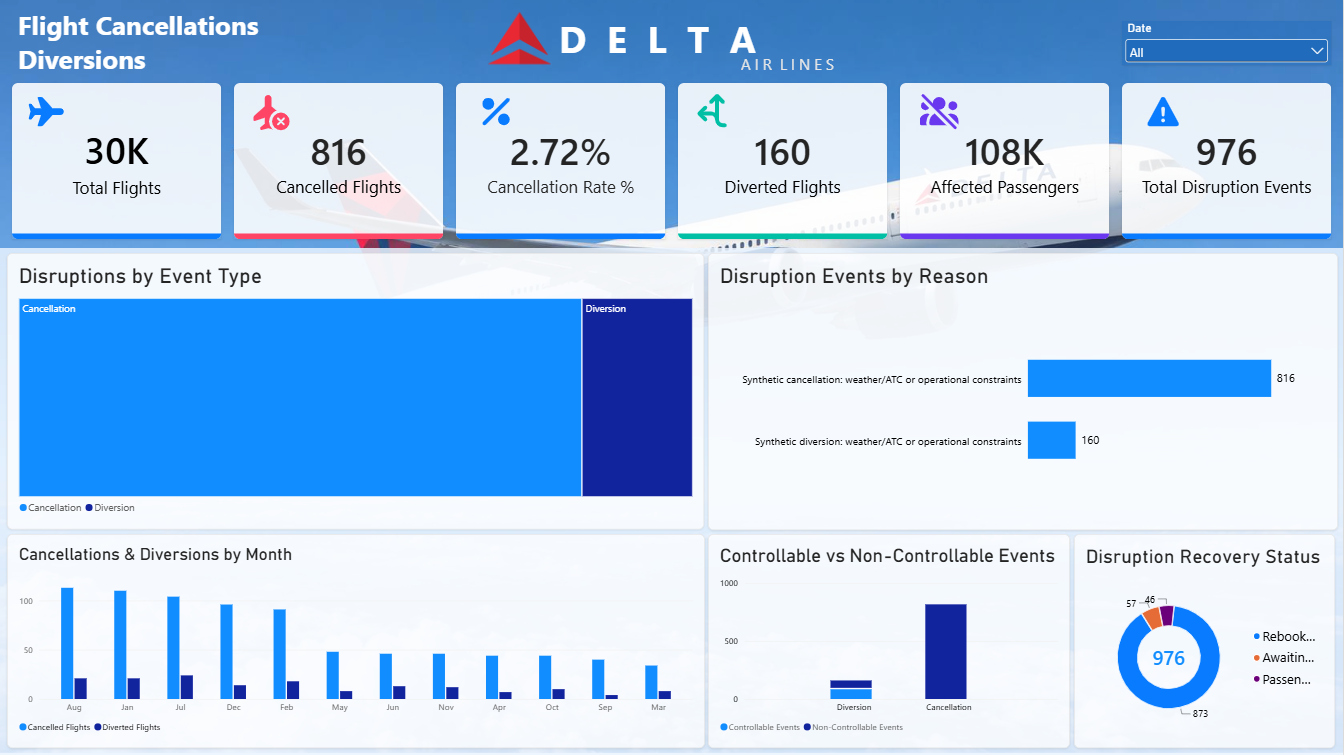

Layout of this report page (visuals, bound fields, positions):
{"tool":"powerbi","page":{"name":"Flight Cancellations & Diversions","canvas":[1920,1080],"ordinal":3},"visuals":[{"type":"shape","box":[0,355.1,1920.6,724.9],"z":0},{"type":"treemap","title":"Disruptions by Event Type","fields":{"Group":["Cancellations & Diversions.EventType"],"Values":["Home - Dax.Total Disruption Events"]},"box":[12,363.1,996.2,395],"z":1000},{"type":"clusteredBarChart","title":"Disruption Events by Reason","fields":{"Category":["Cancellations & Diversions.EventReason"],"Y":["Home - Dax.Total Disruption Events"]},"box":[1012.9,362.9,900,395.7],"z":2000},{"type":"donutChart","title":"Disruption Recovery Status","fields":{"Category":["Cancellations & Diversions.RecoveryStatus"],"Y":["Home - Dax.Total Disruption Events"]},"box":[1535.7,764.3,372.9,305.7],"z":3000},{"type":"columnChart","title":"Controllable vs Non-Controllable Events","fields":{"Category":["Cancellations & Diversions.EventType"],"Y":["Home - Dax.Controllable Events","Home - Dax.Non-Controllable Events"]},"box":[1012.9,764.3,517.1,305.7],"z":4000},{"type":"clusteredColumnChart","title":"Cancellations & Diversions by Month","fields":{"Category":["Date.MonthShortName"],"Y":["Home - Dax.Cancelled Flights","Home - Dax.Diverted Flights"]},"box":[11.4,764.3,997.1,305.7],"z":5000},{"type":"cardVisual","fields":{"Data":["Home - Dax.Total Flights"]},"box":[18.6,119.7,299.3,223.4],"z":6000},{"type":"cardVisual","fields":{"Data":["Home - Dax.Cancelled Flights"]},"box":[335.9,119.7,299,223.4],"z":7000},{"type":"cardVisual","fields":{"Data":["Home - Dax.Cancellation Rate %"]},"box":[652.9,119.7,299,223.4],"z":8000},{"type":"cardVisual","fields":{"Data":["Home - Dax.Diverted Flights"]},"box":[970,119.7,299,223.4],"z":9000},{"type":"cardVisual","fields":{"Data":["Home - Dax.Affected Passengers"]},"box":[1287,119.7,299,223.4],"z":10000},{"type":"cardVisual","fields":{"Data":["Home - Dax.Total Disruption Events"]},"box":[1604,119.7,299,223.4],"z":11000},{"type":"textbox","box":[800.7,18.6,301.9,75.8],"z":12000},{"type":"textbox","box":[1060,78.5,145,41.2],"z":13000},{"type":"image","box":[696.9,12,93.1,89.1],"z":14000},{"type":"image","box":[34.3,132.9,65.7,55.7],"z":15000},{"type":"image","box":[1310,132.9,65.7,55.7],"z":16000},{"type":"image","box":[987.1,132.9,65.7,55.7],"z":17000},{"type":"image","box":[677.1,132.9,65.7,55.7],"z":18000},{"type":"image","box":[354.3,134.3,65.7,55.7],"z":19000},{"type":"image","box":[1630,134.3,65.7,55.7],"z":20000},{"type":"textbox","box":[27.1,11.4,402.9,98.6],"z":21000},{"type":"slicer","title":"Date","fields":{"Values":["Date.Date"]},"box":[1604.3,31.4,298.6,62.9],"z":22000}]}

Visuals, with their boxes in screenshot pixels (x1, y1, x2, y2), scaled from the page's 1920x1080 canvas onto the 1344x755 screenshot:
shape: 0 248 1343 754
"Disruptions by Event Type" treemap: 8 254 706 530
"Disruption Events by Reason" clusteredBarChart: 709 254 1339 530
"Disruption Recovery Status" donutChart: 1075 534 1336 748
"Controllable vs Non-Controllable Events" columnChart: 709 534 1071 748
"Cancellations & Diversions by Month" clusteredColumnChart: 8 534 706 748
cardVisual - Home - Dax.Total Flights: 13 84 223 240
cardVisual - Home - Dax.Cancelled Flights: 235 84 444 240
cardVisual - Home - Dax.Cancellation Rate %: 457 84 666 240
cardVisual - Home - Dax.Diverted Flights: 679 84 888 240
cardVisual - Home - Dax.Affected Passengers: 901 84 1110 240
cardVisual - Home - Dax.Total Disruption Events: 1123 84 1332 240
textbox: 560 13 772 66
textbox: 742 55 844 84
image: 488 8 553 71
image: 24 93 70 132
image: 917 93 963 132
image: 691 93 737 132
image: 474 93 520 132
image: 248 94 294 133
image: 1141 94 1187 133
textbox: 19 8 301 77
"Date" slicer: 1123 22 1332 66
